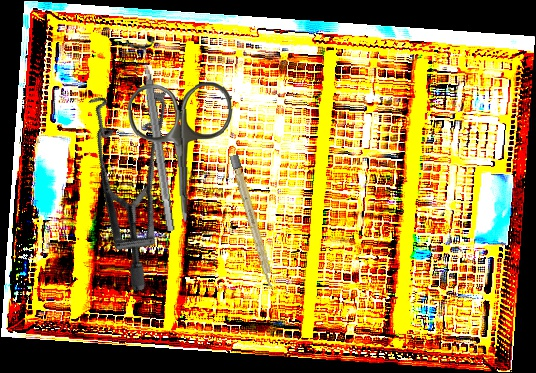Fixation Ring: (124, 35, 187, 234)
Iris Scissors: (126, 81, 237, 224)
Scalpel Handle: (229, 153, 277, 292)
Speculum: (18, 61, 235, 294)
